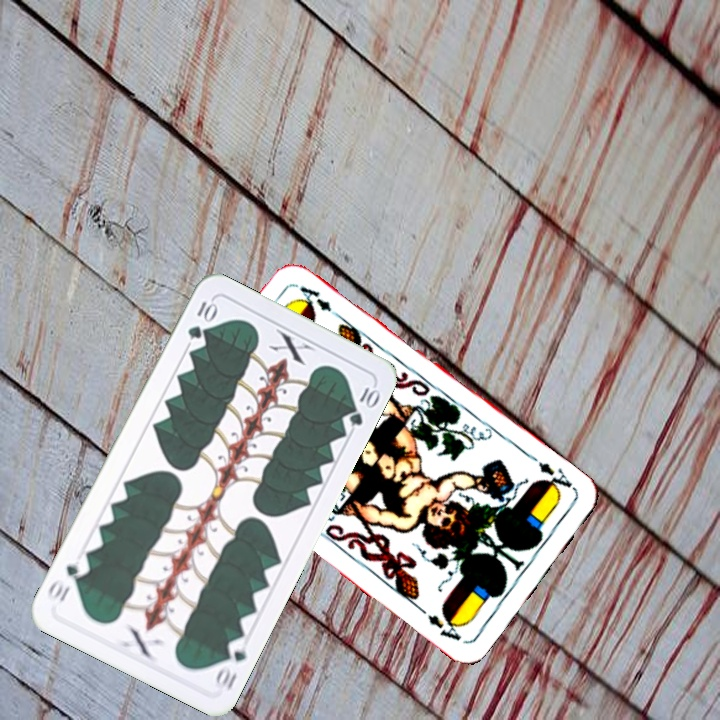EA: (534, 457, 579, 499)
G10: (210, 634, 251, 693), (183, 295, 219, 343)
